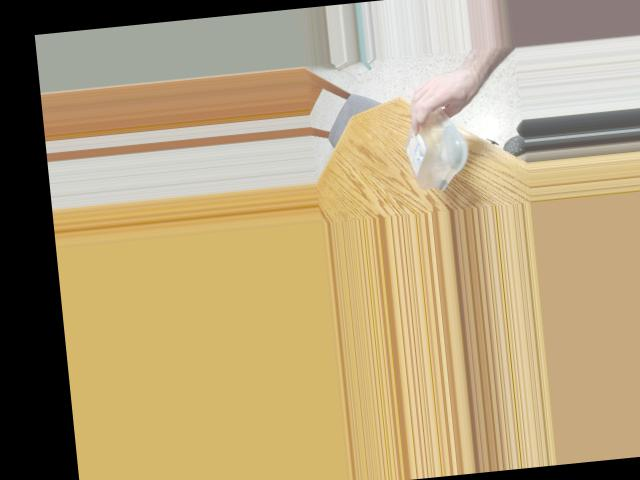cheese: (403, 93, 463, 188)
